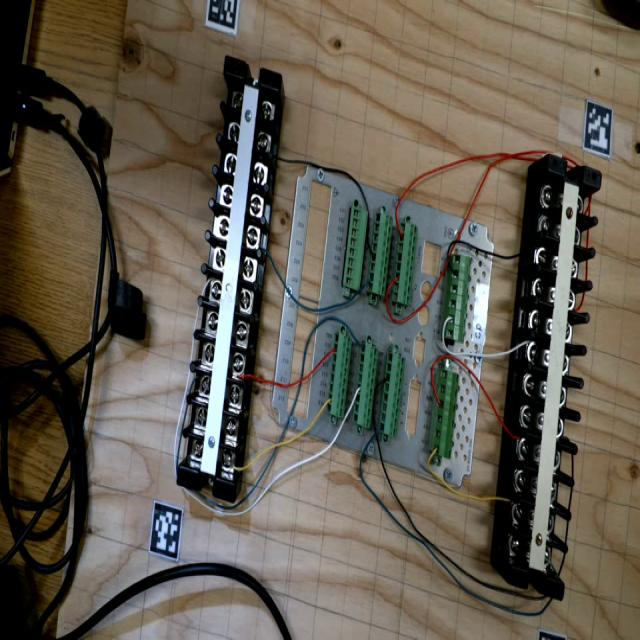Flathead_Block: (508, 155, 604, 600)
Phillips_Block: (175, 56, 284, 503)
Terminal_1: (431, 369, 459, 459), (445, 254, 471, 343)
Terminal_2: (378, 351, 406, 437), (366, 211, 394, 297), (391, 221, 419, 306), (326, 331, 353, 418), (352, 342, 379, 429)
